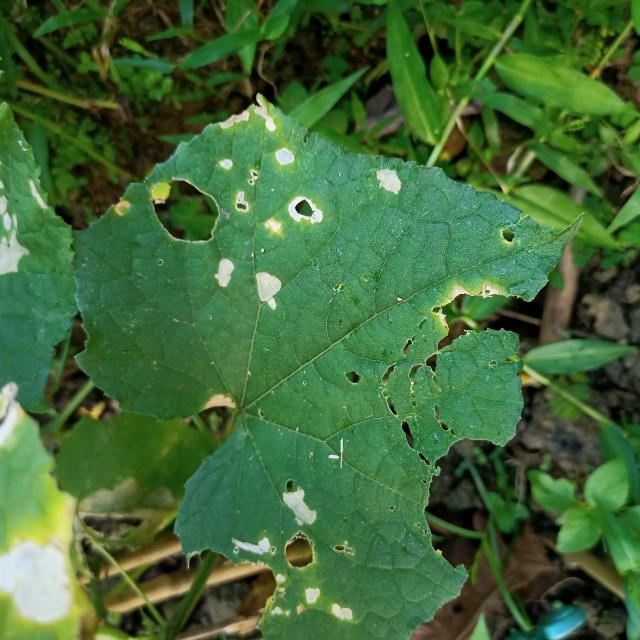disease_cucumber: (214, 101, 408, 242), (230, 477, 368, 621), (208, 247, 288, 316)
